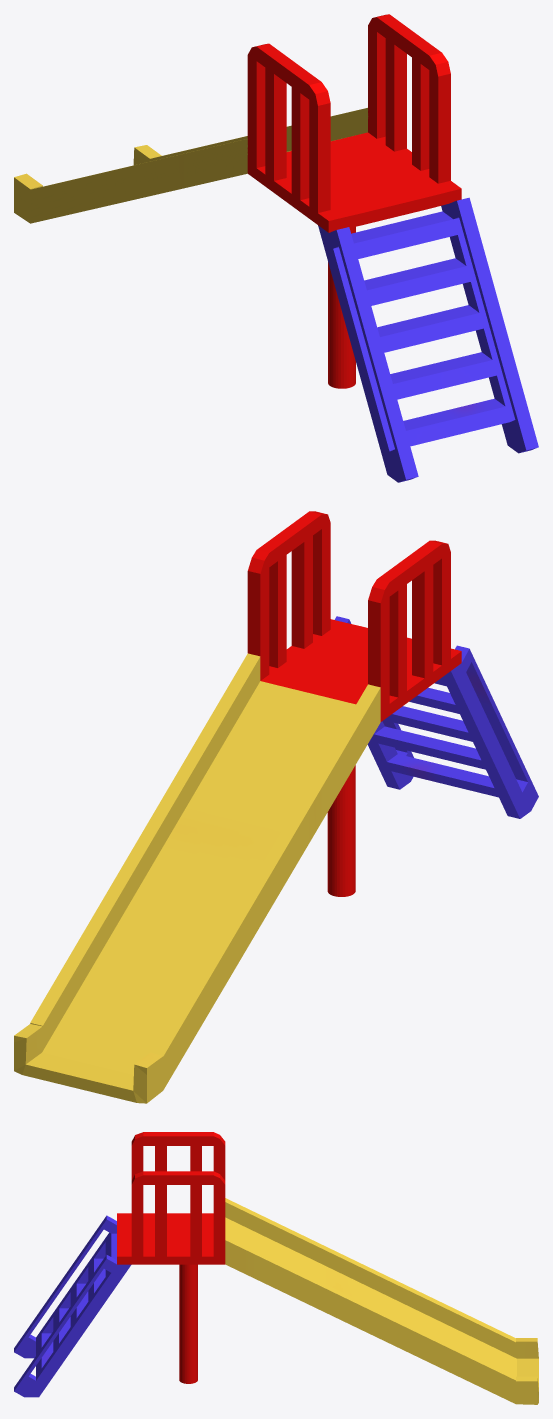
Rendered from slide.obj.
The picture shows the model from 3 angles, top to bottom: view 1: azimuth 30°, elevation 25°; view 2: azimuth 150°, elevation 25°; view 3: azimuth 270°, elevation 25°; orthographic projection. The views are drawn at different scales.
Parts seen in each view (by area): view 1: 円柱; view 2: 円柱; view 3: 円柱.
Boxes of the visible parts, bbox=[...] form: 円柱: bbox=[14, 14, 538, 482]; 円柱: bbox=[14, 511, 538, 1103]; 円柱: bbox=[14, 1132, 538, 1404].
Bounding box in the file's own units: 1.18 × 2.92 × 6.04.
1 material, 1 textured.
